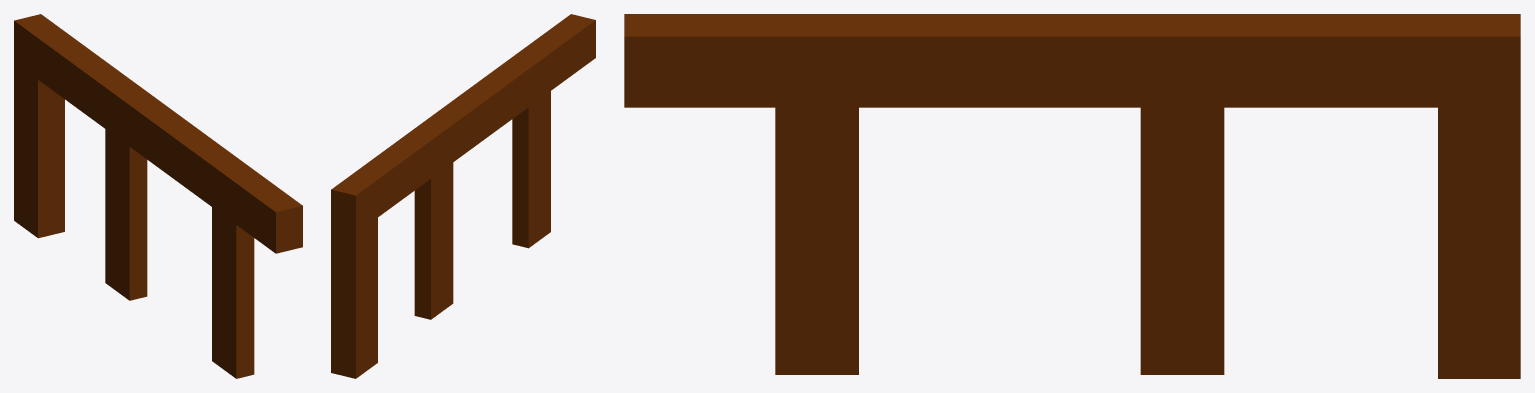
Rendered from fence.fbx.
3 renders of one model, left to right at view 1: azimuth 30°, elevation 25°; view 2: azimuth 150°, elevation 25°; view 3: azimuth 270°, elevation 25°, orthographic. The views are drawn at different scales.
Visible parts, largest first — view 1: fence; view 2: fence; view 3: fence.
Boxes of the visible parts, x1,y1,x2,y2 form: fence: [14, 14, 302, 378]; fence: [331, 14, 595, 378]; fence: [624, 14, 1520, 378].
Bounding box in the file's own units: 28.22 × 200 × 474.
